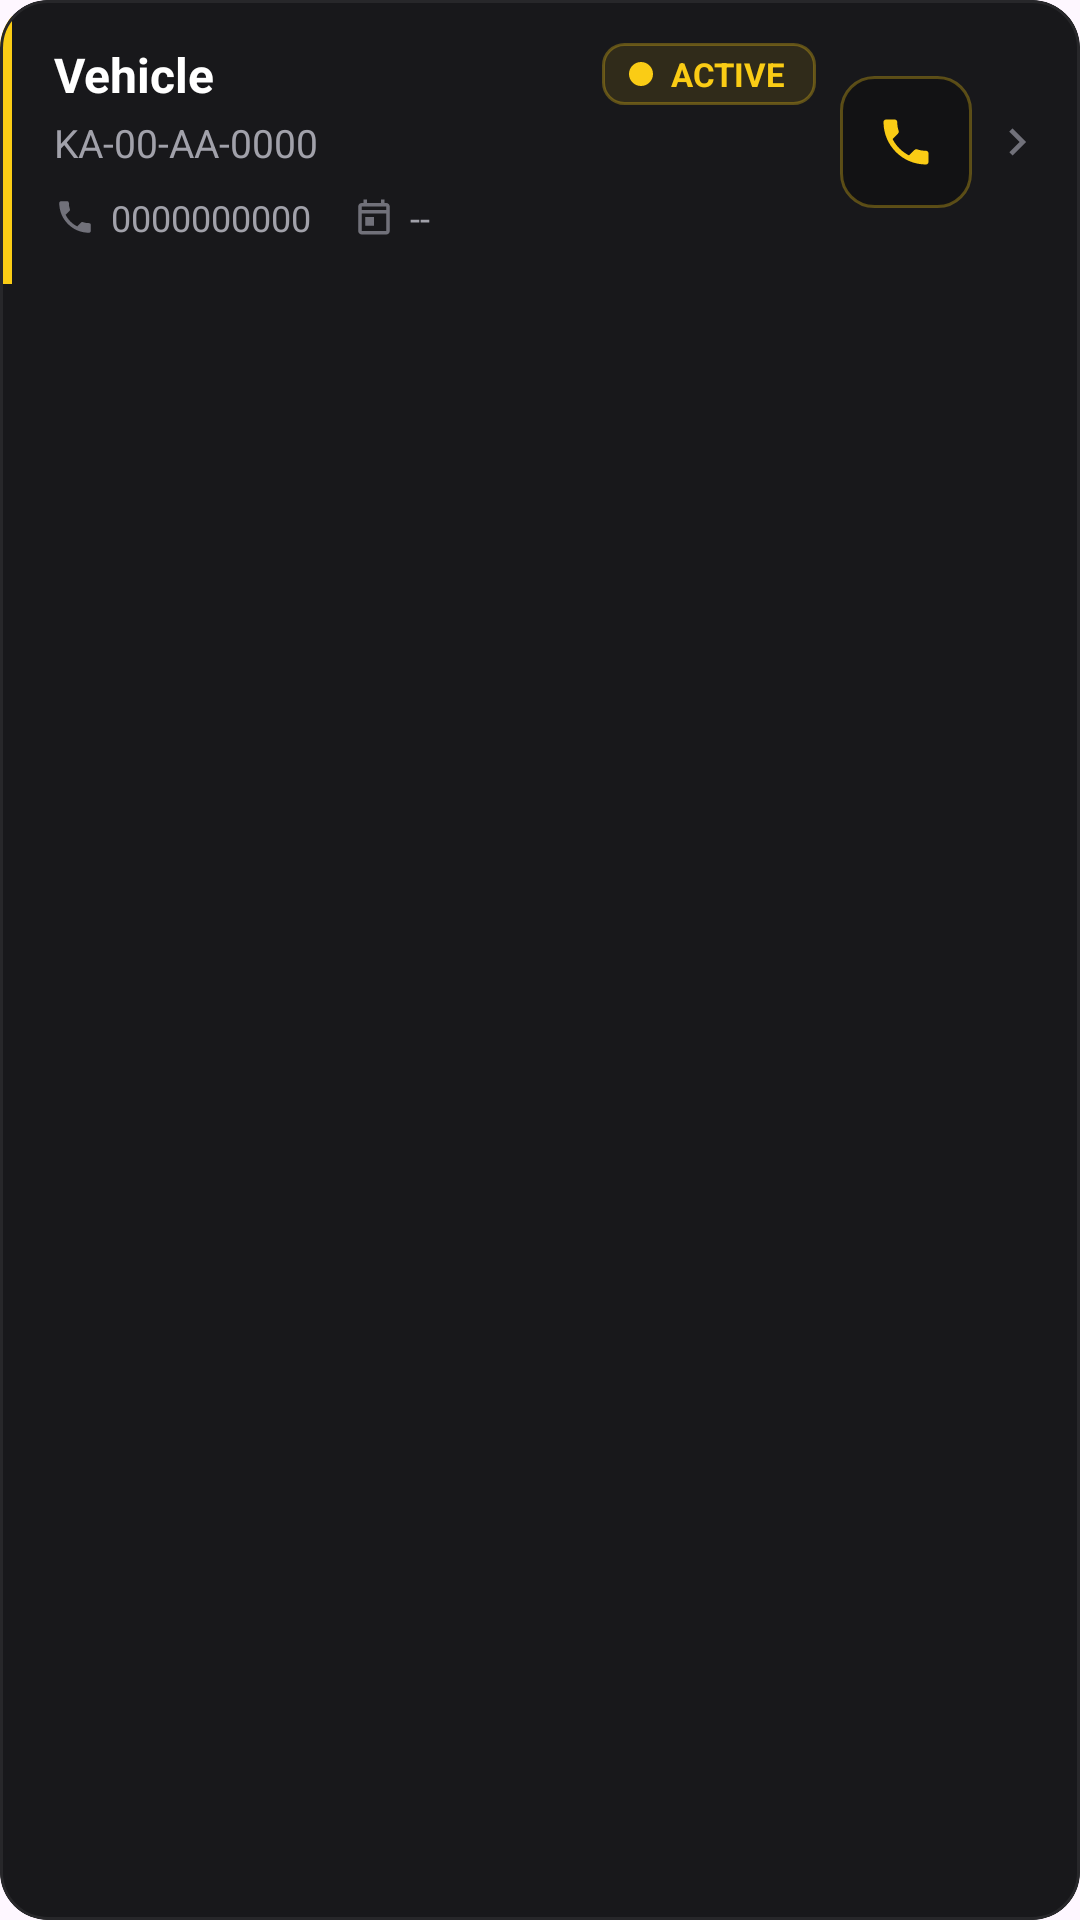

Where icons sit on this 1080×1920 app screen, as (x1=x1, y1=y1, x2=x2, y2=y2):
calendar: (x1=358, y1=199, x2=390, y2=235)
chevron right: (x1=1009, y1=128, x2=1026, y2=156)
phone: (x1=883, y1=119, x2=929, y2=165), (x1=59, y1=201, x2=91, y2=233)
